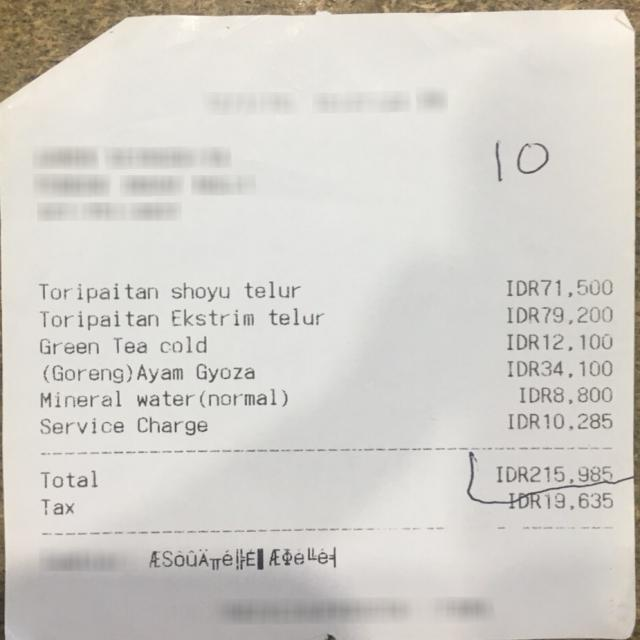text: (36, 280, 156, 303), (42, 363, 181, 382), (39, 308, 157, 330), (496, 466, 618, 484), (505, 305, 612, 324), (505, 332, 612, 351), (500, 490, 612, 508), (505, 278, 612, 296), (508, 412, 611, 429), (506, 360, 611, 376), (199, 388, 285, 407), (518, 386, 610, 402), (169, 308, 252, 325), (39, 389, 119, 406), (39, 417, 122, 433), (137, 416, 206, 435), (171, 280, 229, 300), (195, 362, 253, 381), (268, 306, 322, 325), (244, 280, 299, 298), (40, 469, 96, 486), (39, 337, 97, 353), (135, 390, 192, 406), (160, 334, 204, 352), (39, 498, 72, 514), (113, 336, 145, 352)
